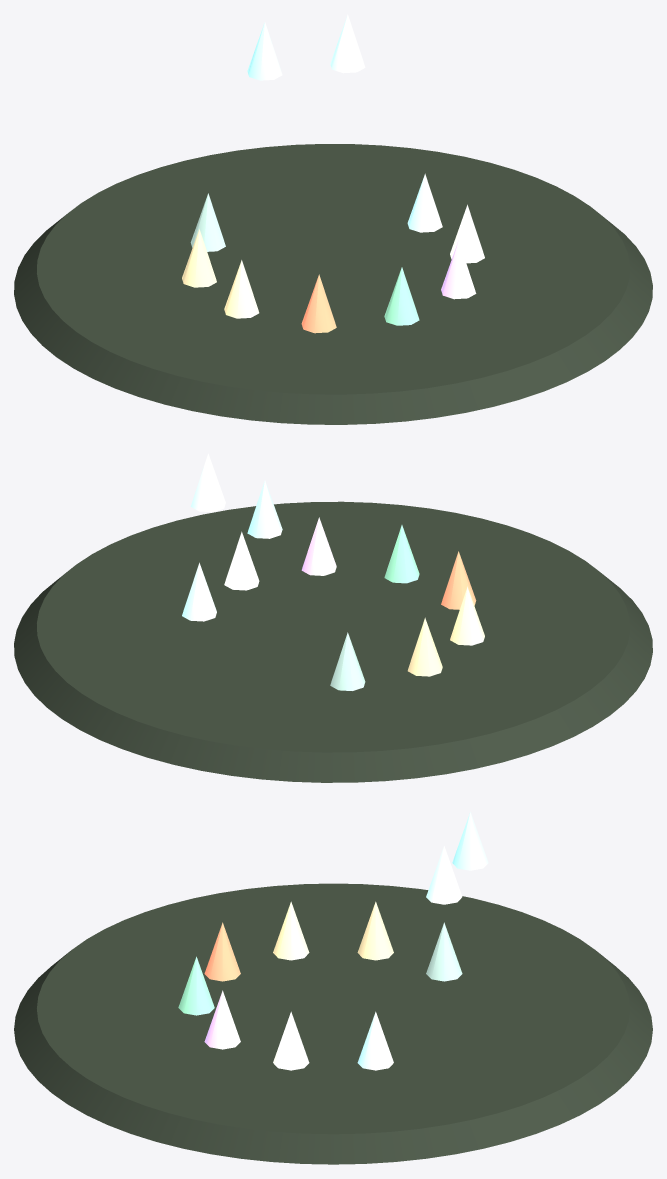
Rendered from aetherion-top.glb.
3 renders of one model, top to bottom at view 1: azimuth 30°, elevation 25°; view 2: azimuth 150°, elevation 25°; view 3: azimuth 270°, elevation 25°, orthographic.
Parts seen in each view (by area): view 1: ground, moonwhisper-landmark, ashendrake-landmark, aria-isles-landmark, celest-beacon-landmark, starfall-landmark, frostwhisper-landmark, kingsgate-landmark, arcanum-landmark, sunderwall-landmark, the-rim-landmark; view 2: ground, aria-isles-landmark, arcanum-landmark, moonwhisper-landmark, sunderwall-landmark, frostwhisper-landmark, the-rim-landmark, starfall-landmark, celest-beacon-landmark, kingsgate-landmark, ashendrake-landmark; view 3: ground, aria-isles-landmark, celest-beacon-landmark, ashendrake-landmark, starfall-landmark, kingsgate-landmark, sunderwall-landmark, frostwhisper-landmark, the-rim-landmark, moonwhisper-landmark, arcanum-landmark.
Boxes of the visible parts, x1,y1,x2,y2 form: ground: [14, 144, 652, 424]; moonwhisper-landmark: [384, 267, 419, 325]; ashendrake-landmark: [301, 274, 336, 333]; aria-isles-landmark: [247, 22, 282, 80]; celest-beacon-landmark: [330, 14, 365, 73]; starfall-landmark: [224, 260, 259, 318]; frostwhisper-landmark: [407, 173, 442, 232]; kingsgate-landmark: [182, 229, 216, 287]; arcanum-landmark: [441, 240, 476, 299]; sunderwall-landmark: [190, 193, 225, 251]; the-rim-landmark: [450, 204, 484, 263]; ground: [14, 501, 652, 782]; aria-isles-landmark: [247, 480, 282, 538]; arcanum-landmark: [301, 517, 336, 575]; moonwhisper-landmark: [384, 525, 419, 583]; sunderwall-landmark: [330, 632, 365, 690]; frostwhisper-landmark: [182, 562, 216, 621]; the-rim-landmark: [224, 531, 259, 590]; starfall-landmark: [450, 586, 484, 645]; celest-beacon-landmark: [190, 453, 225, 512]; kingsgate-landmark: [407, 617, 442, 676]; ashendrake-landmark: [441, 551, 476, 609]; ground: [14, 883, 652, 1164]; aria-isles-landmark: [452, 812, 488, 870]; celest-beacon-landmark: [426, 846, 462, 904]; ashendrake-landmark: [204, 922, 240, 981]; starfall-landmark: [273, 901, 309, 960]; kingsgate-landmark: [357, 901, 393, 960]; sunderwall-landmark: [426, 922, 462, 981]; frostwhisper-landmark: [357, 1011, 393, 1070]; the-rim-landmark: [273, 1011, 309, 1070]; moonwhisper-landmark: [178, 956, 214, 1015]; arcanum-landmark: [204, 990, 240, 1049].
Size of the model in its own units: 56 by 21.1 by 56.
